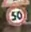limite 50: (5, 3, 28, 26)
